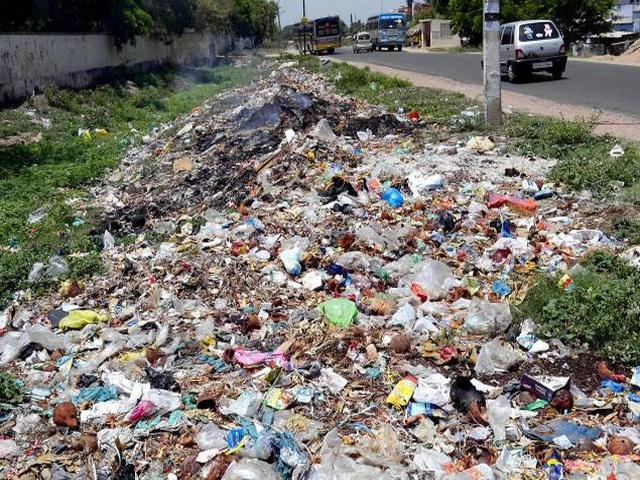garbage: (194, 106, 418, 480), (425, 151, 531, 474), (30, 264, 188, 480)
